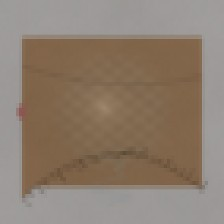foreign_body_visible: (79, 98, 113, 125)
